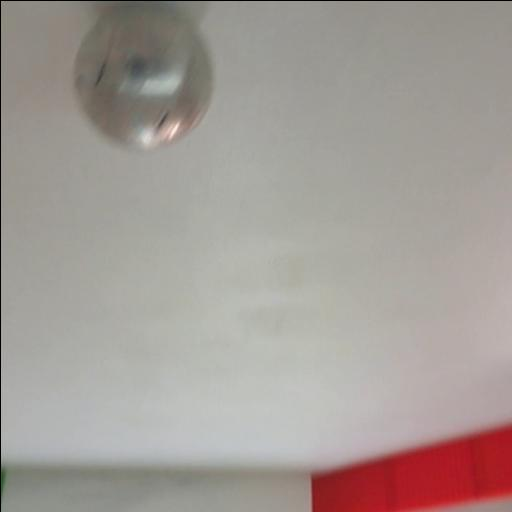alive: (73, 2, 216, 153)
